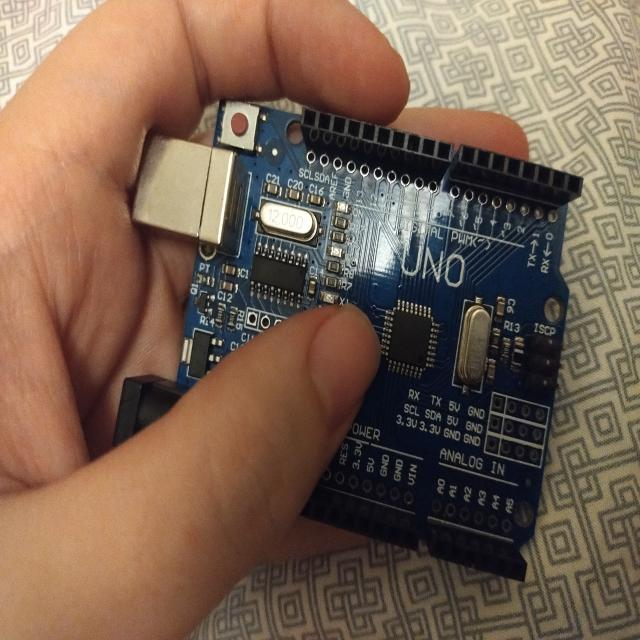arduino: (115, 64, 562, 590)
